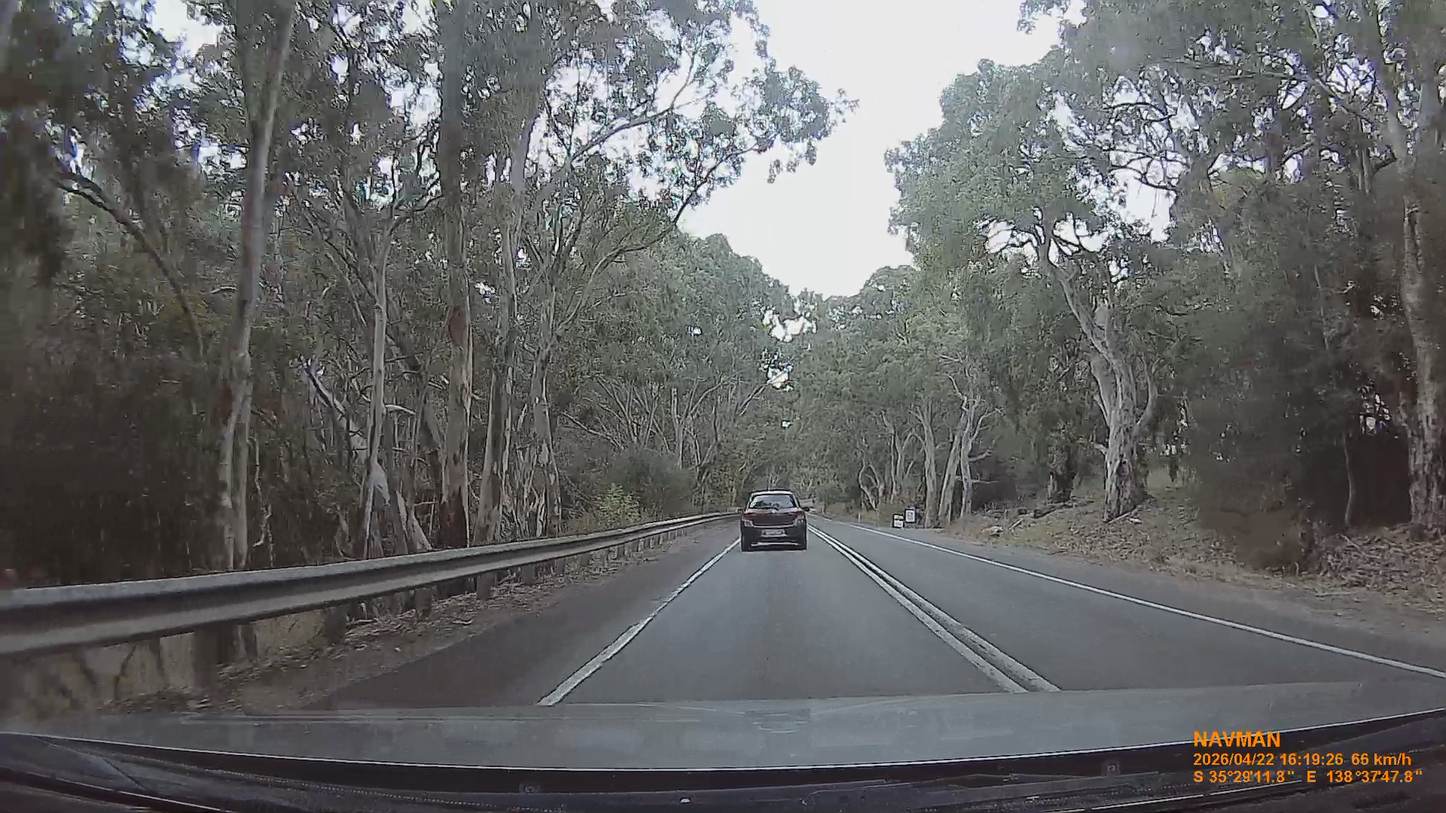road barriers: (4, 513, 731, 663)
